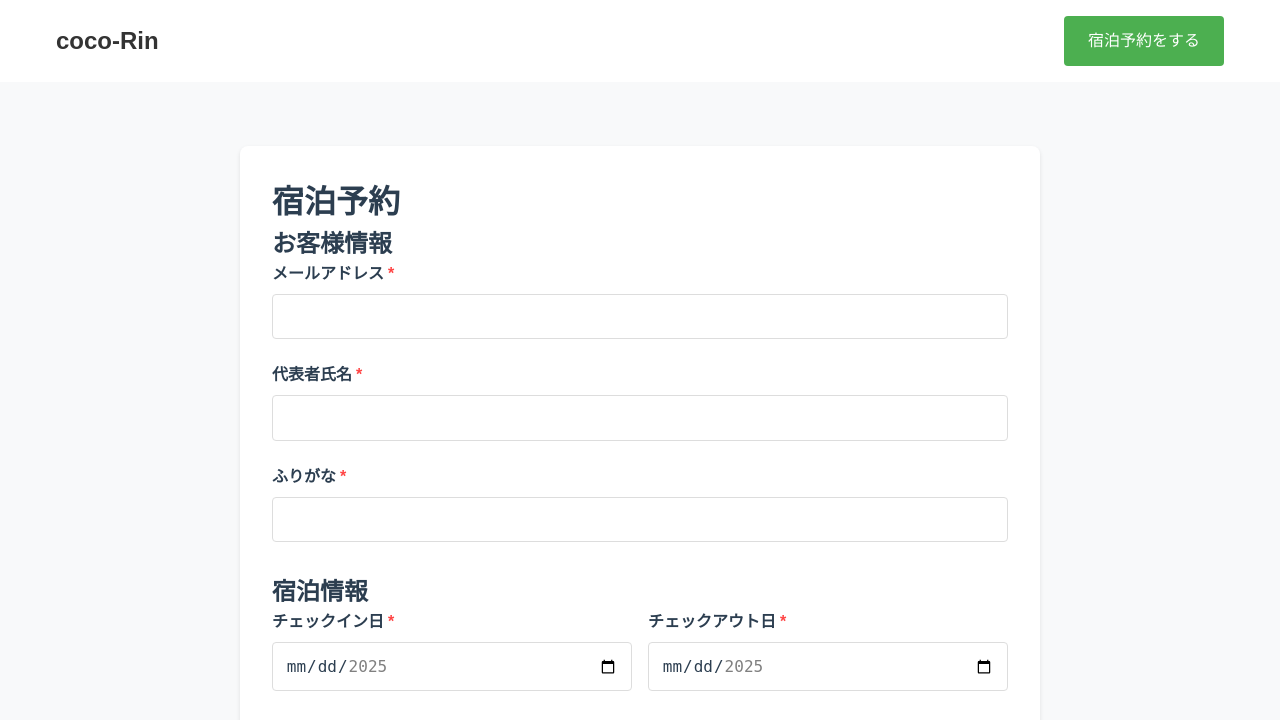
予約フロー › 空室がない場合、エラーが表示されること
The width and height of the screenshot is (1280, 720).
Type "2024-03-01" into the date field with id "checkIn". click: x=452, y=667
box: 272,642 -> 632,691
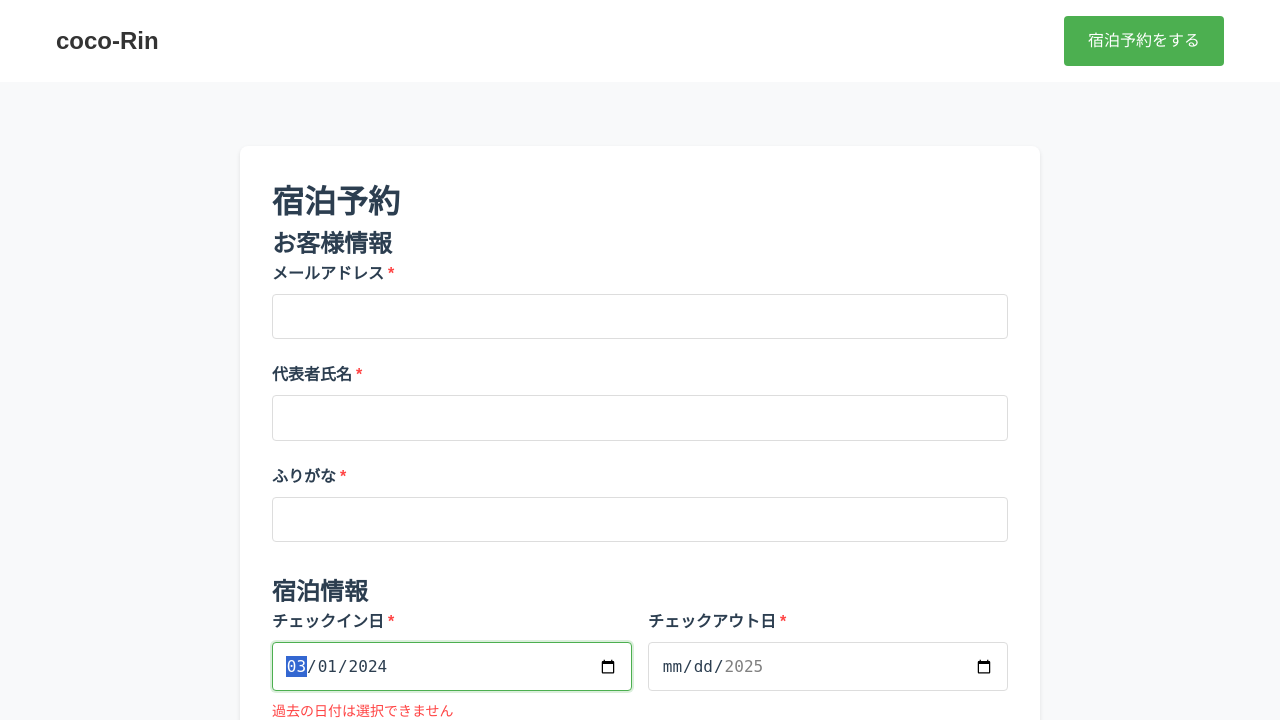
Type "2024-03-03" into the date field with id "checkOut". click: x=828, y=667
box: 648,642 -> 1008,691
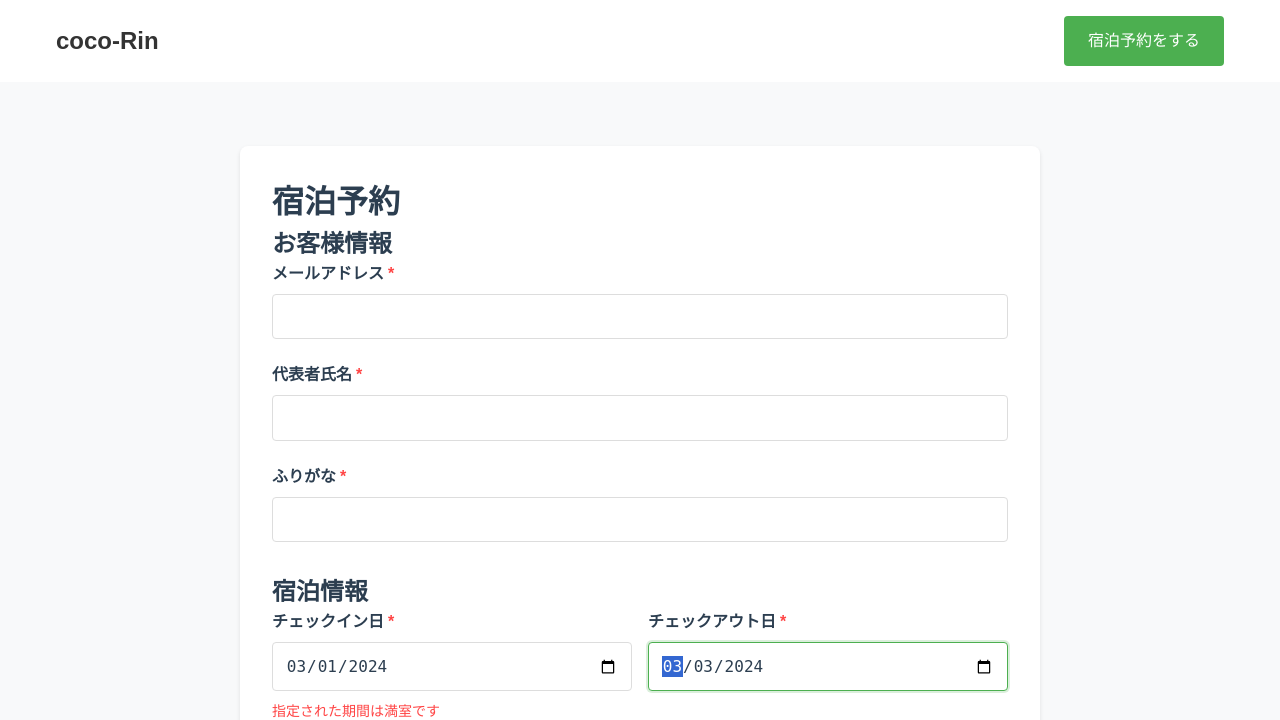
Expected: the text "指定された期間は満室です" is shown, 272,703 -> 440,719
